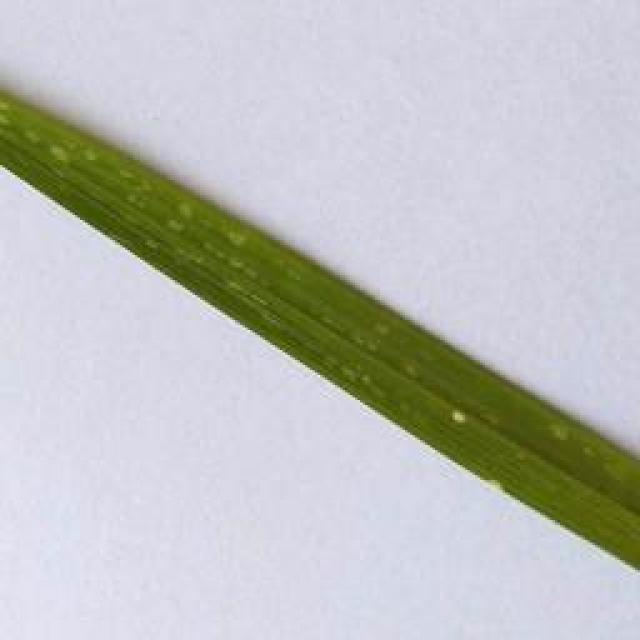Unhealthy: (488, 478, 504, 492), (452, 410, 466, 425)
